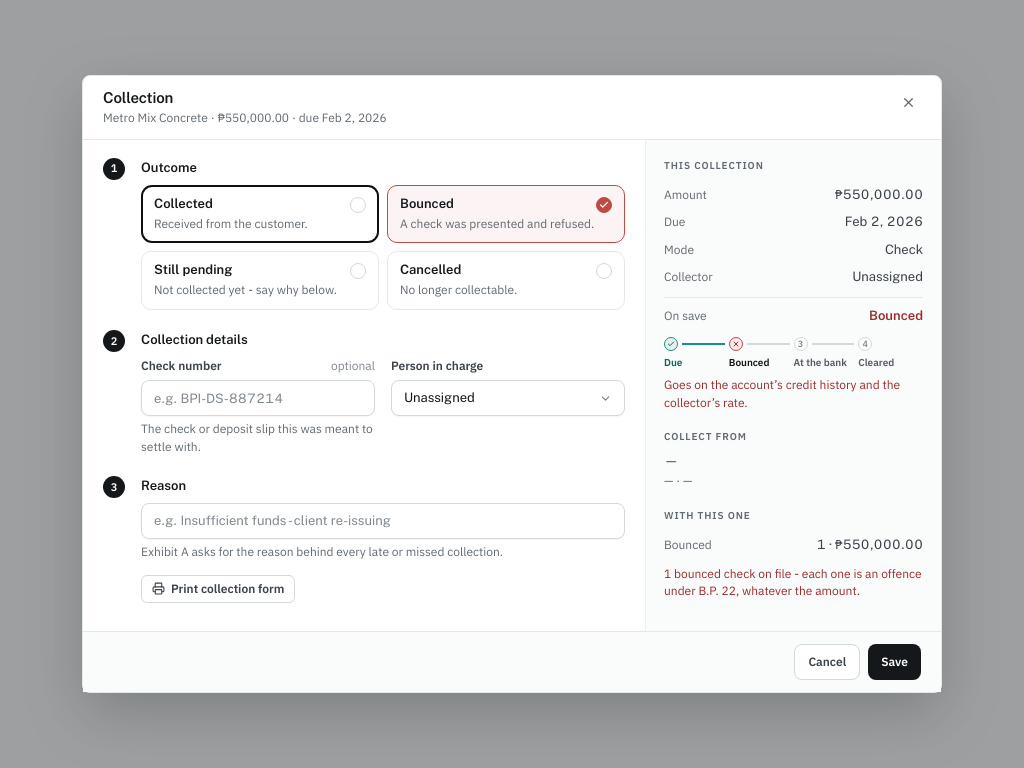
Test case: settling a collection › will not record a bounce with no reason
What coordinates should you click on to do the following:
click the button "Save"
I would click on:
 (895, 662)
Its box is left=868, top=644, right=921, bottom=680.
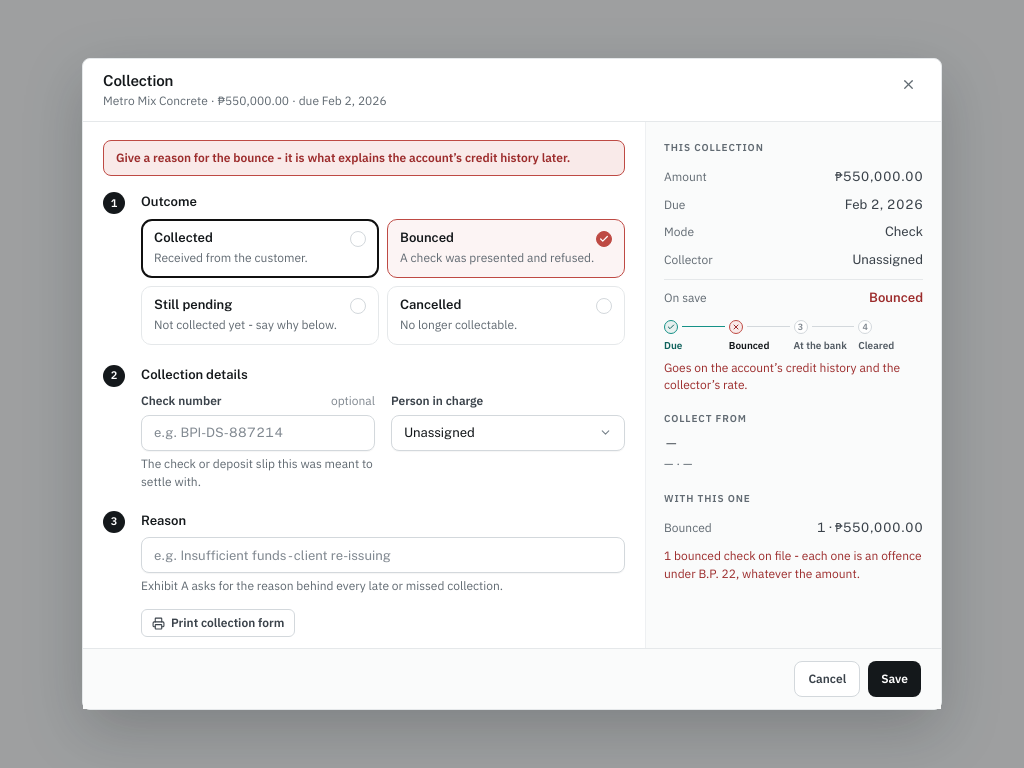
Expected: the text "Give a reason for the bounce" is shown, left=116, top=150, right=570, bottom=165
